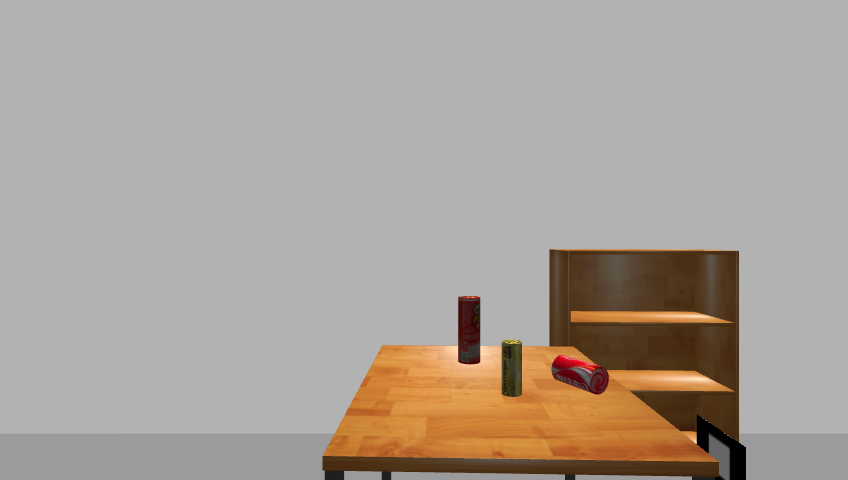aruco marker: (691, 415, 752, 480)
biscuits pack: (501, 340, 523, 398)
bookshelf: (545, 246, 746, 479)
coke can: (548, 354, 610, 395)
dinner table: (318, 343, 721, 480)
pringles can: (455, 294, 483, 366)
